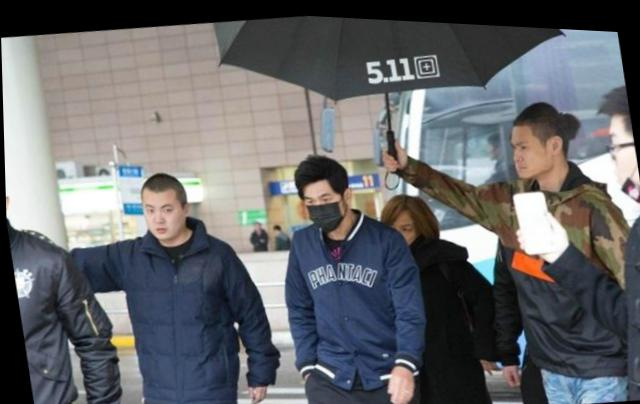NONE: (509, 127, 556, 175), (142, 195, 187, 241), (386, 211, 422, 252)
OK: (300, 184, 343, 227)
WRONG: (606, 128, 640, 199)
